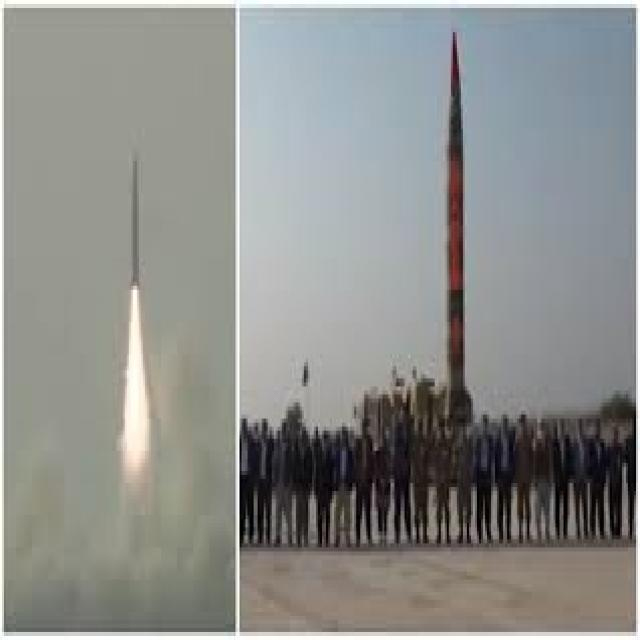Missile: (442, 33, 474, 429), (124, 156, 147, 301)
